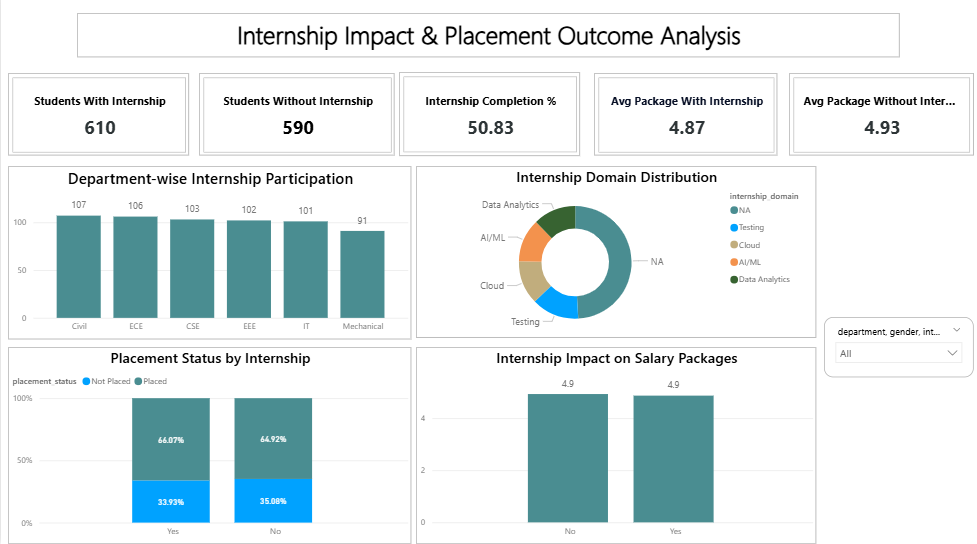

The dashboard page shown, as its layout file describes it:
{"tool":"powerbi","page":{"name":"Internship & Placement Impact","canvas":[1280,720],"ordinal":3},"visuals":[{"type":"cardVisual","fields":{"Data":["internships.Students With Internship"]},"box":[8.8,103.9,237.1,108.3],"z":0},{"type":"cardVisual","fields":{"Data":["internships.Students Without Internship"]},"box":[259,103.9,256.1,108.3],"z":1000},{"type":"cardVisual","fields":{"Data":["internships.Internship Completion %"]},"box":[521,102.4,237.1,109.8],"z":2000},{"type":"cardVisual","fields":{"Data":["internships.Avg Package With Internship"]},"box":[776.2,103.7,240.5,108],"z":3000},{"type":"cardVisual","fields":{"Data":["internships.Avg Package Without Internship"]},"box":[1031,103.7,241.9,108],"z":4000},{"type":"clusteredColumnChart","title":"Department-wise Internship Participation","fields":{"Category":["students.department"],"Y":["internships.Students With Internship"]},"box":[8.8,225.4,528.3,226.8],"z":5000},{"type":"donutChart","title":"Internship Domain Distribution","fields":{"Category":["internships.internship_domain"],"Y":["CountNonNull(students.student_id)"]},"box":[542.9,225.4,523.9,225.4],"z":6000},{"type":"clusteredColumnChart","title":"Internship Impact on Salary Packages","fields":{"Y":["internships.Average Package by Internship"],"Category":["internships.internship_completed"]},"box":[542.9,462.4,523.9,257.6],"z":7000},{"type":"hundredPercentStackedColumnChart","title":"Placement Status by Internship","fields":{"Category":["internships.internship_completed"],"Series":["placements.placement_status"],"Y":["CountNonNull(students.student_id)"]},"box":[8.8,462.4,528.3,257.6],"z":8000},{"type":"slicer","fields":{"Values":["students.department","students.gender","internships.internship_domain"]},"box":[1077.1,422.9,196.1,79],"z":9000},{"type":"textbox","box":[100,25,1076.7,58.3],"z":11000}]}

Visuals, with their boxes in screenshot pixels (x1, y1, x2, y2), scaled from the page's 1280x720 canvas onto the 977x544 screenshot:
cardVisual - internships.Students With Internship: 7,79,188,160
cardVisual - internships.Students Without Internship: 198,79,393,160
cardVisual - internships.Internship Completion %: 398,77,579,160
cardVisual - internships.Avg Package With Internship: 592,78,776,160
cardVisual - internships.Avg Package Without Internship: 787,78,972,160
"Department-wise Internship Participation" clusteredColumnChart: 7,170,410,342
"Internship Domain Distribution" donutChart: 414,170,814,341
"Internship Impact on Salary Packages" clusteredColumnChart: 414,349,814,543
"Placement Status by Internship" hundredPercentStackedColumnChart: 7,349,410,543
slicer - students.department x students.gender: 822,320,972,379
textbox: 76,19,898,63
